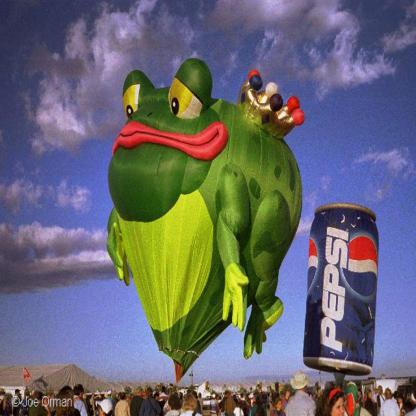face: (332, 399, 347, 416), (286, 391, 291, 399), (386, 392, 391, 400), (279, 402, 283, 409), (369, 393, 372, 400), (319, 389, 322, 395), (268, 389, 271, 394), (380, 389, 383, 394)
